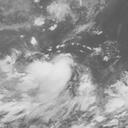cyclone: (37, 58, 74, 93)
